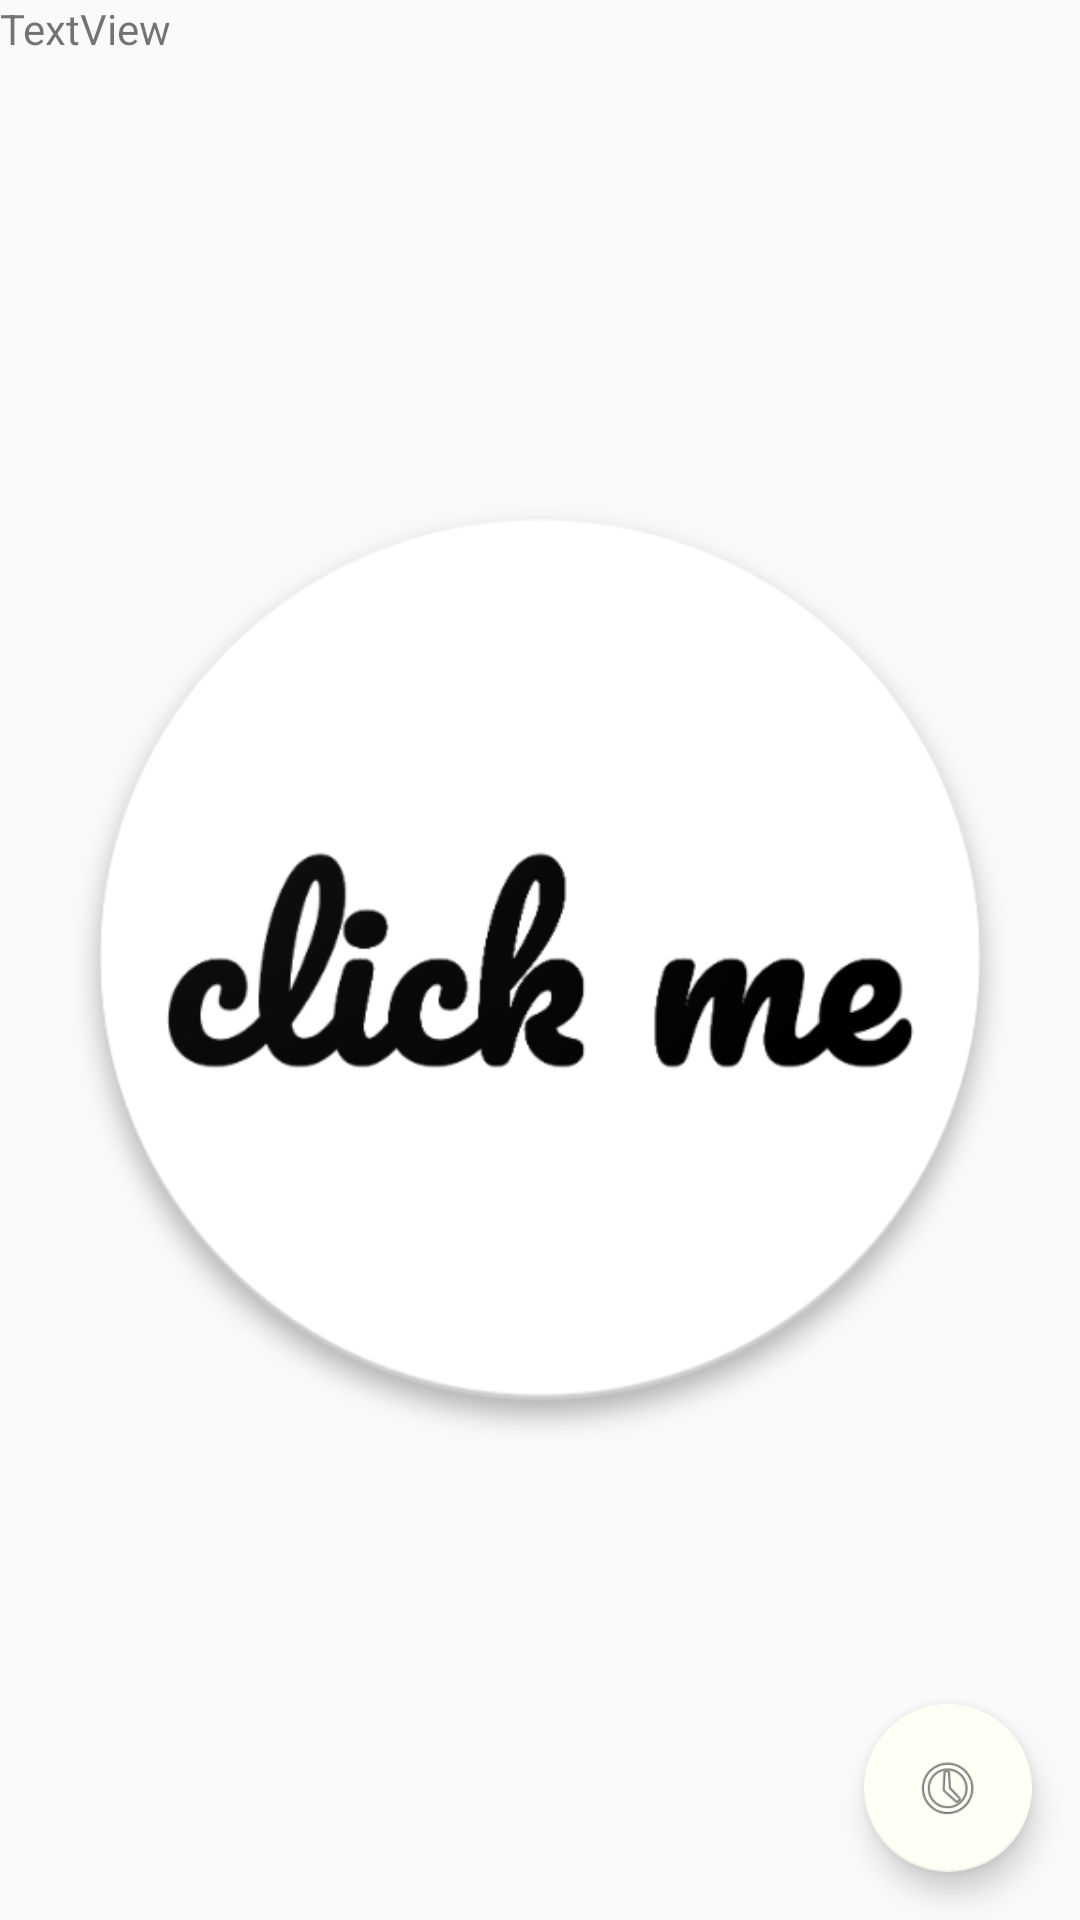

Icons on this 1080×1920 Android screen, each with its box as (x1, y1, x2, y2):
recent history: (870, 1762, 1032, 1872)
